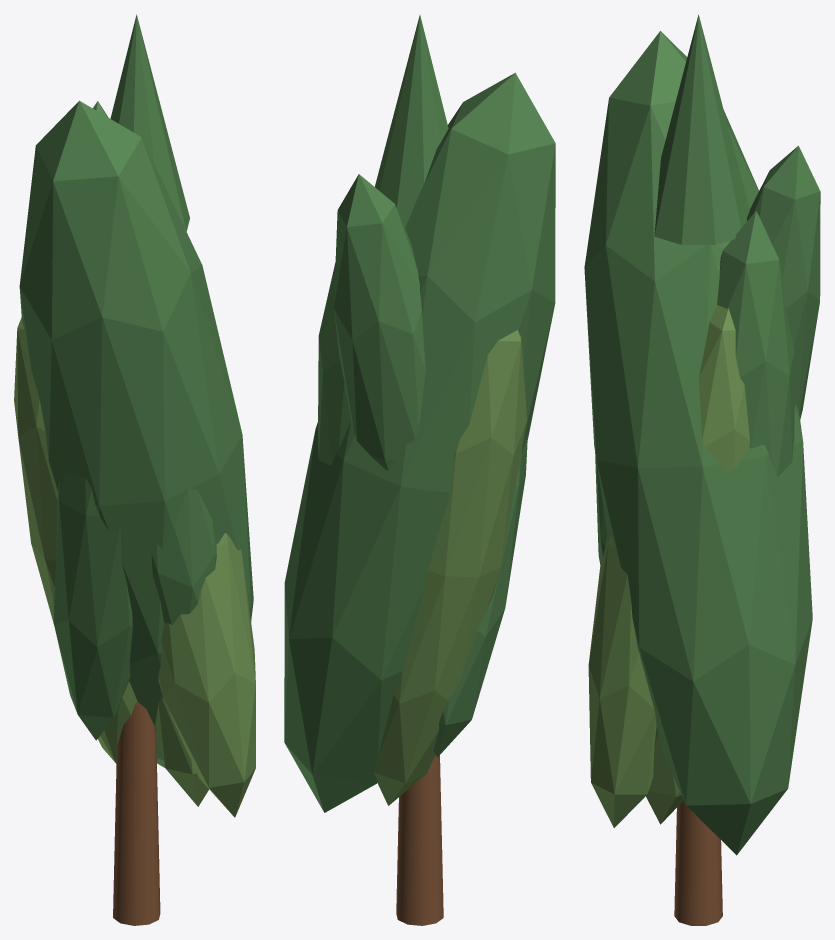
Rendered from tree_cypress.glb.
The picture shows the model from 3 angles, left to right: view 1: azimuth 30°, elevation 25°; view 2: azimuth 150°, elevation 25°; view 3: azimuth 270°, elevation 25°; orthographic projection.
Parts seen in each view (by area): view 1: Cypress_Main_Spindle, Cypress_Vertical_Lobe_06, Cypress_Vertical_Lobe_04, Cypress_Trunk, Cypress_Vertical_Lobe_03, Cypress_Vertical_Lobe_05, Cypress_Tapered_Tip, Cypress_Vertical_Lobe_00; view 2: Cypress_Main_Spindle, Cypress_Vertical_Lobe_03, Cypress_Vertical_Lobe_02, Cypress_Tapered_Tip, Cypress_Trunk, Cypress_Vertical_Lobe_04, Cypress_Vertical_Lobe_01; view 3: Cypress_Main_Spindle, Cypress_Vertical_Lobe_06, Cypress_Tapered_Tip, Cypress_Vertical_Lobe_01, Cypress_Vertical_Lobe_02, Cypress_Vertical_Lobe_00, Cypress_Trunk, Cypress_Vertical_Lobe_05.
Boxes of the visible parts, box(x1,y1,x2,y2) form: Cypress_Main_Spindle: box(19, 100, 253, 767); Cypress_Vertical_Lobe_06: box(158, 533, 255, 817); Cypress_Vertical_Lobe_04: box(53, 472, 132, 740); Cypress_Trunk: box(113, 701, 160, 925); Cypress_Vertical_Lobe_03: box(14, 318, 137, 763); Cypress_Vertical_Lobe_05: box(151, 485, 216, 624); Cypress_Tapered_Tip: box(110, 14, 189, 231); Cypress_Vertical_Lobe_00: box(155, 698, 208, 806); Cypress_Main_Spindle: box(284, 72, 555, 812); Cypress_Vertical_Lobe_03: box(373, 330, 526, 805); Cypress_Vertical_Lobe_02: box(334, 174, 425, 470); Cypress_Tapered_Tip: box(375, 15, 448, 227); Cypress_Trunk: box(396, 755, 443, 925); Cypress_Vertical_Lobe_04: box(433, 436, 527, 757); Cypress_Vertical_Lobe_01: box(318, 262, 350, 465); Cypress_Main_Spindle: box(584, 31, 812, 855); Cypress_Vertical_Lobe_06: box(588, 533, 656, 827); Cypress_Tapered_Tip: box(654, 14, 749, 244); Cypress_Vertical_Lobe_01: box(717, 211, 795, 476); Cypress_Vertical_Lobe_02: box(747, 145, 820, 419); Cypress_Vertical_Lobe_00: box(646, 305, 749, 824); Cypress_Trunk: box(674, 800, 722, 925); Cypress_Vertical_Lobe_05: box(595, 450, 607, 564).
Size of the model in its own units: 2.18 by 8.2 by 1.94.
